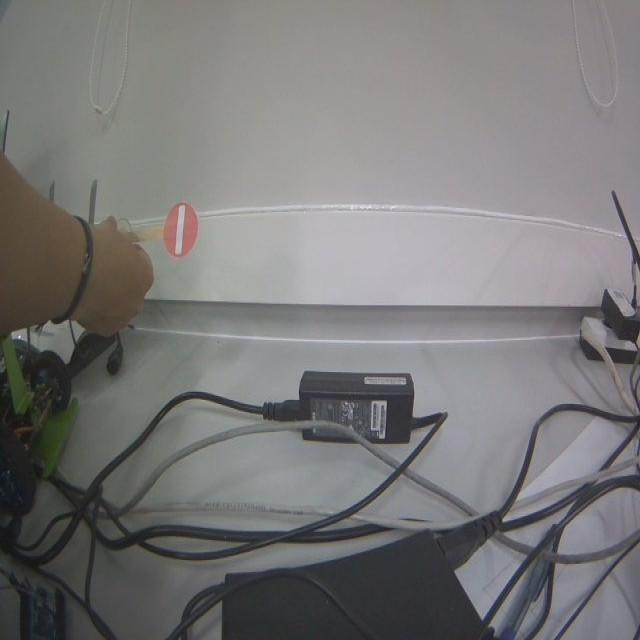Dilarang Masuk: (163, 202, 198, 256)
